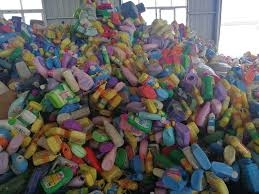plastic: (37, 163, 80, 194), (43, 81, 81, 109), (99, 117, 123, 146), (97, 145, 124, 170), (30, 147, 60, 166), (190, 143, 211, 169), (60, 67, 81, 92), (210, 159, 238, 177), (171, 119, 188, 145), (160, 123, 176, 147), (135, 110, 163, 121), (204, 111, 216, 134), (57, 141, 72, 158)
